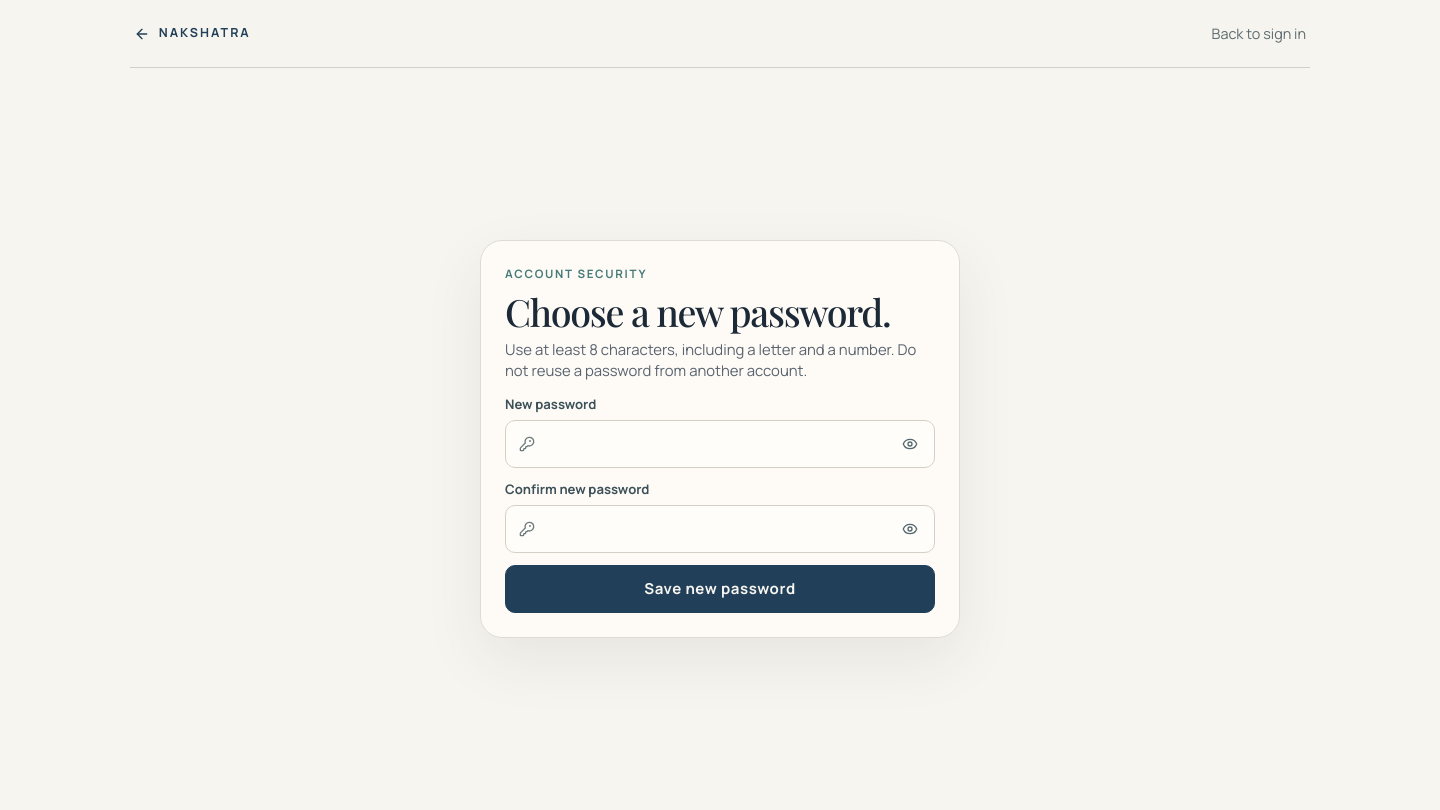
Test: password recovery form › requires matching passwords before submitting
Type "NewPassword1" into the password field labelled "New password" at (720, 444), box [505,420,935,468]
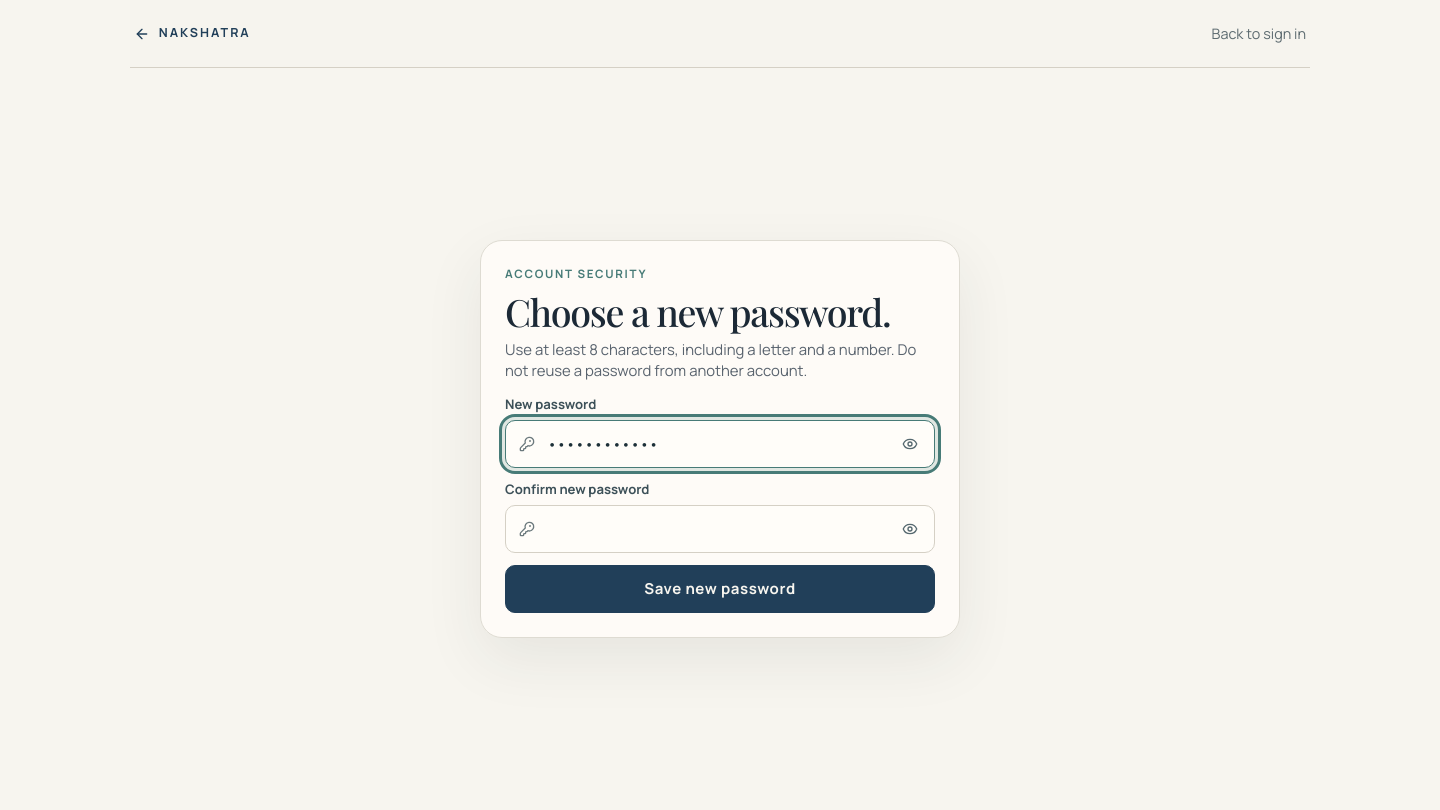
Type "DifferentPassword2" into the password field labelled "Confirm new password" at (720, 529), box [505,505,935,553]
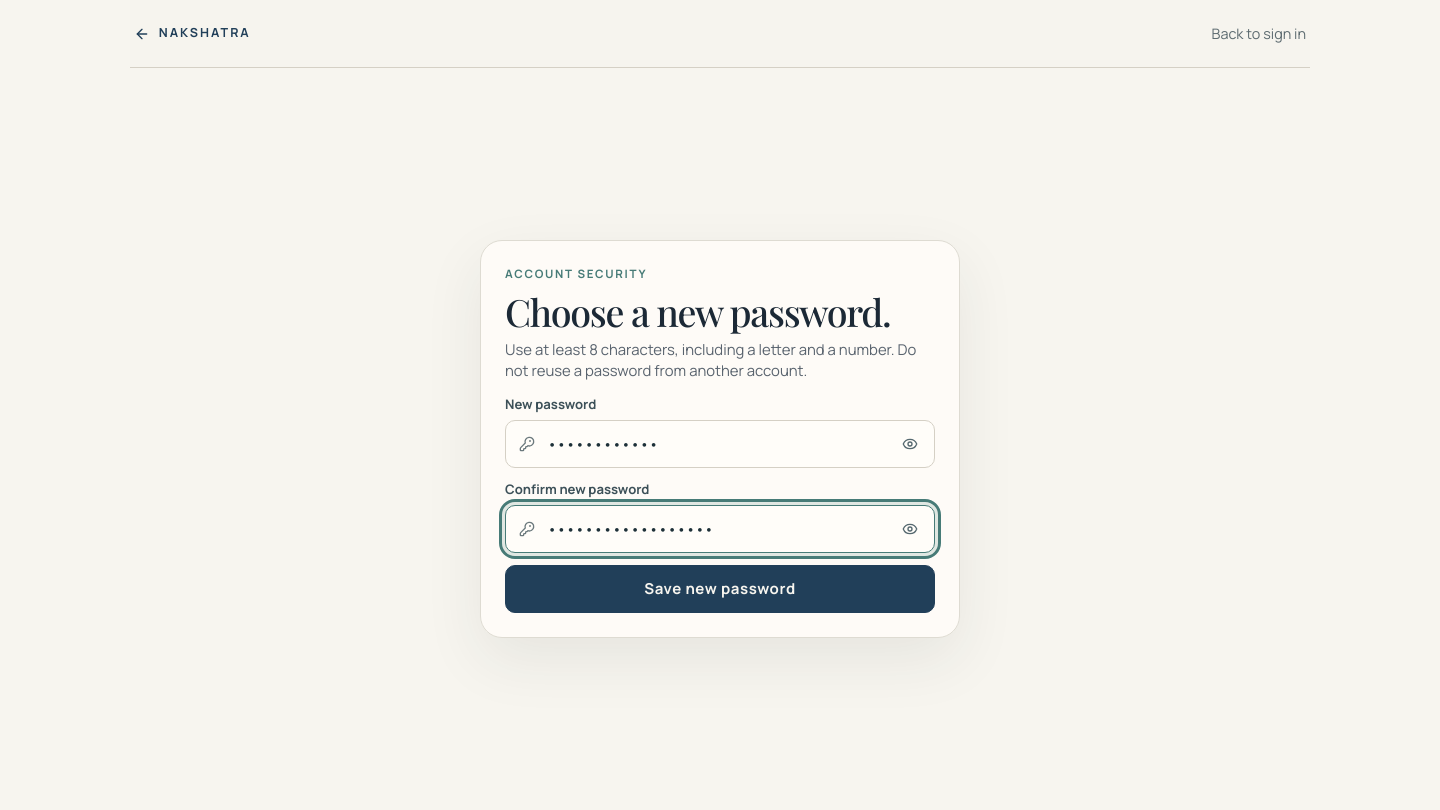
Click the button "Save new password" at (720, 589), box [505,565,935,613]
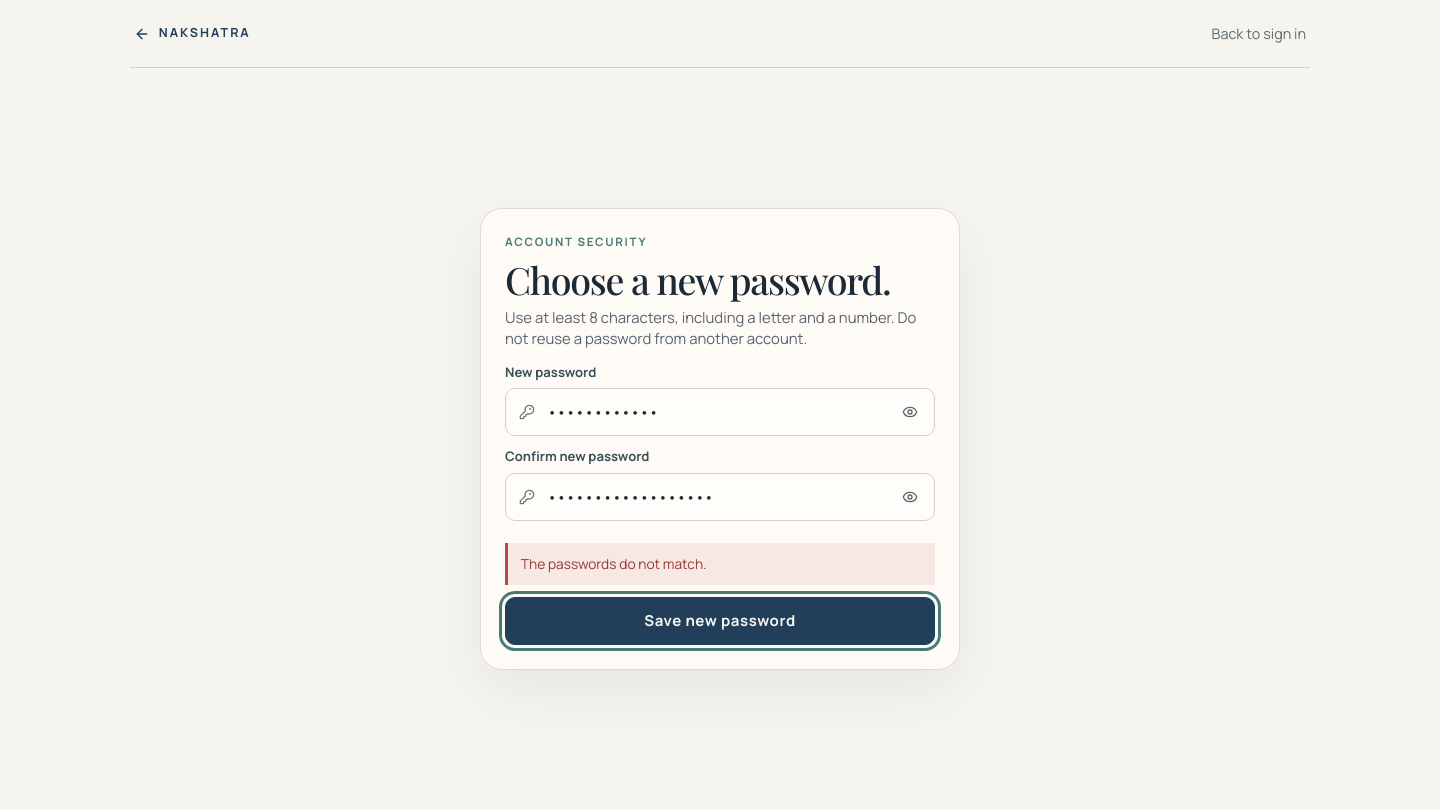
Now the message reads "The passwords do not match.", box [521,554,707,573]
